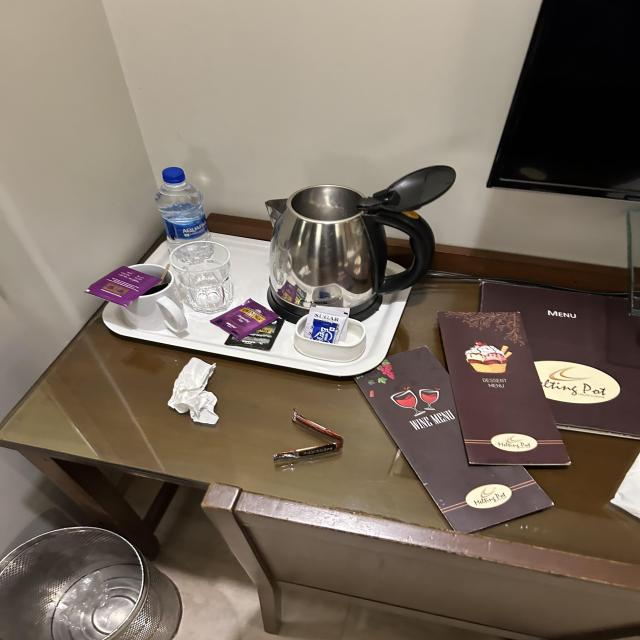mess: (2, 152, 640, 564)
